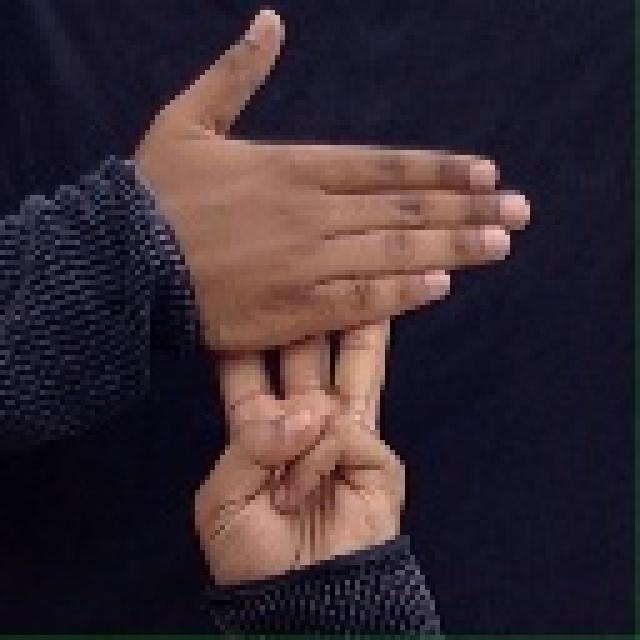Alphabet-M: (135, 0, 540, 590)
